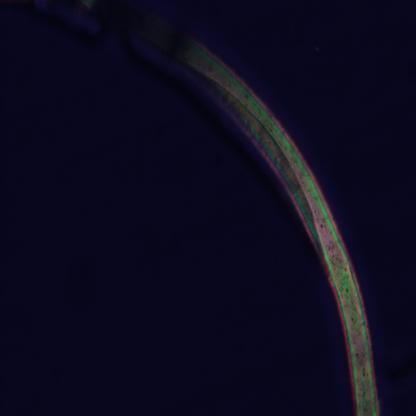Microfibre: (78, 0, 379, 414)
